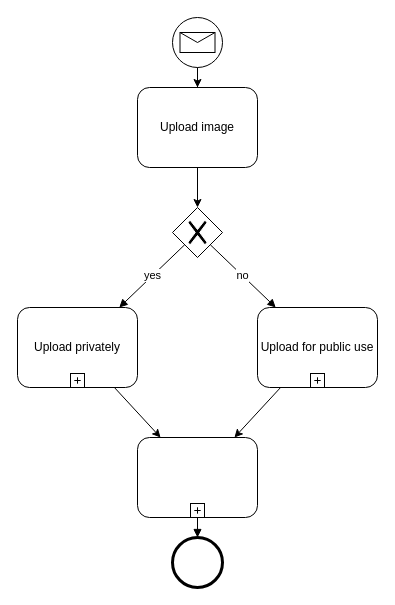
Some shapes in this 395 by 605 pixel diagram are drawn without their labels. Here are the shapes that lost their labels. From the top down, the centre of each, then its label:
[197,232]: private
[197,477]: Persist image with meta data
